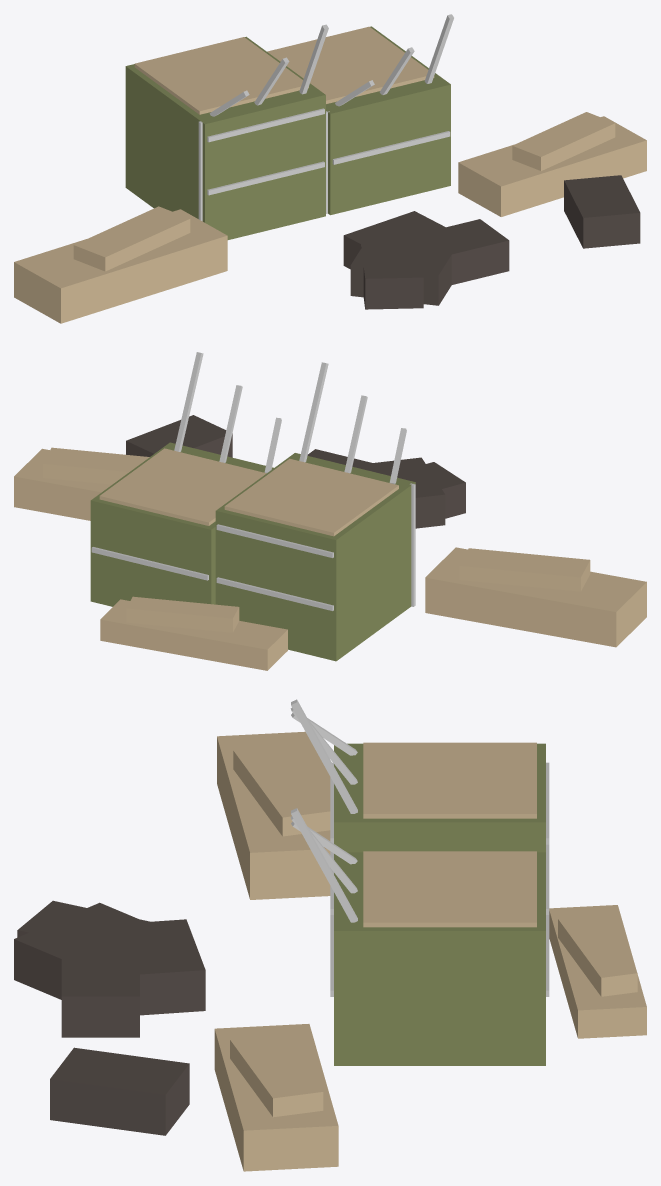
File: SM_HescoCorto2_v2_Escalonado_e2_MuyDanado_LOD0.fbx
3 renders of one model, top to bottom at view 1: azimuth 30°, elevation 25°; view 2: azimuth 150°, elevation 25°; view 3: azimuth 270°, elevation 25°, orthographic. The views are drawn at different scales.
Visible parts, largest first — view 1: SM_hesco_piezas_v70_LOD0; view 2: SM_hesco_piezas_v70_LOD0; view 3: SM_hesco_piezas_v70_LOD0.
Boxes of the visible parts, box(x1,y1,x2,y2) form: SM_hesco_piezas_v70_LOD0: box(14, 14, 646, 323); SM_hesco_piezas_v70_LOD0: box(14, 352, 646, 670); SM_hesco_piezas_v70_LOD0: box(14, 699, 646, 1171).
Size of the model in its own units: 5.36 by 1.74 by 3.64.
